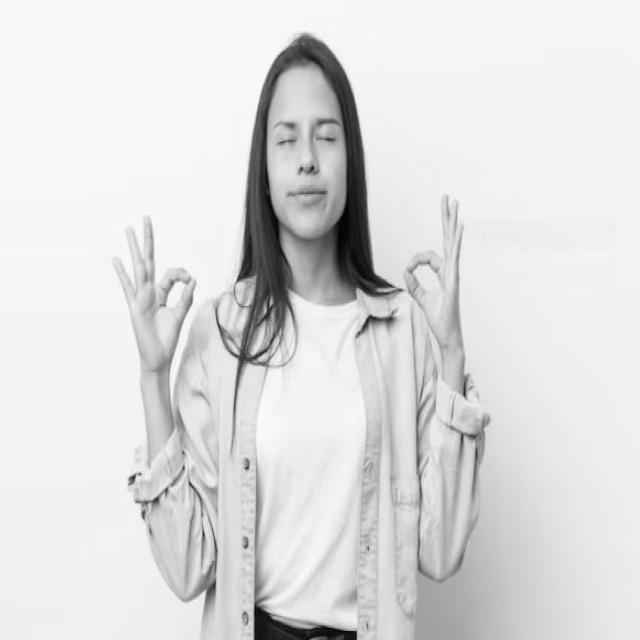perfect: (107, 207, 200, 380), (400, 182, 469, 348)
